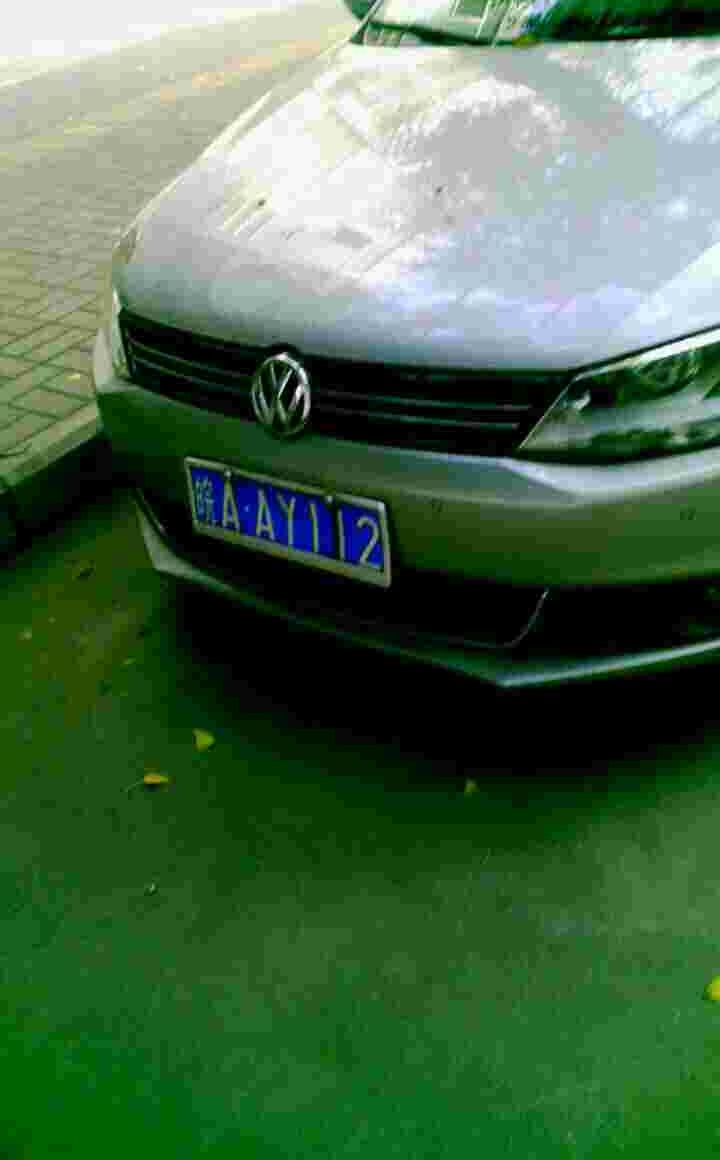plate: (184, 452, 394, 589)
